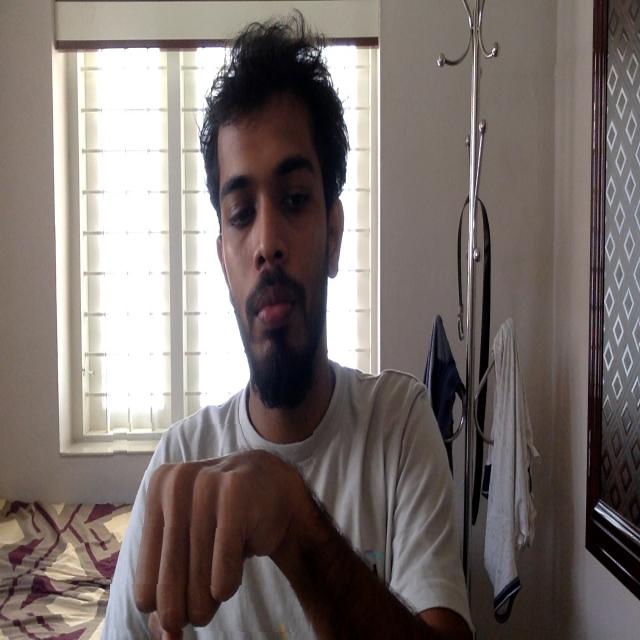Yes: (111, 423, 312, 632)
